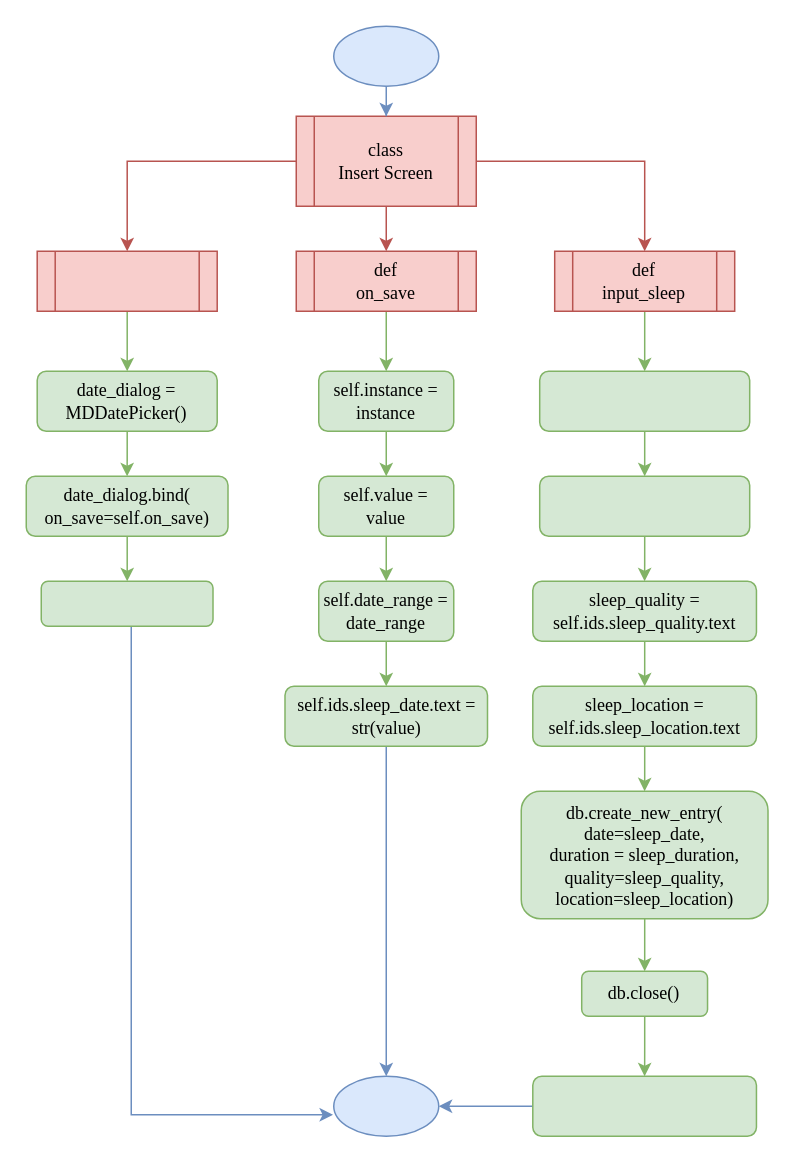
Image size: 795x1163. Some labels were removed from this diagram. Each missing label, with the box of its shape:
date_dialog.open(): (40, 580, 213, 626)
def show_date_picker: (36, 250, 217, 311)
End: (332, 1075, 439, 1136)
self.ids.input_text.text = "Successful!": (531, 1075, 756, 1136)
sleep_date = self.ids.sleep_date.text: (538, 370, 750, 431)
sleep_duration = self.ids.sleep_duration.text: (538, 475, 750, 536)
Start: (332, 25, 439, 86)
